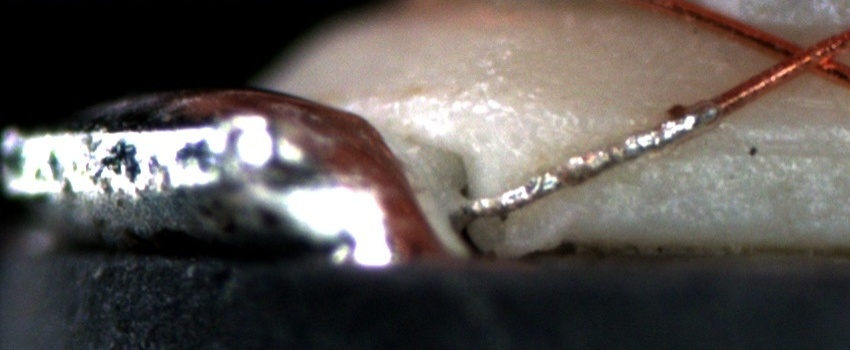CL: (756, 27, 844, 84)
DL: (635, 114, 850, 178)
TS: (470, 98, 718, 219)
